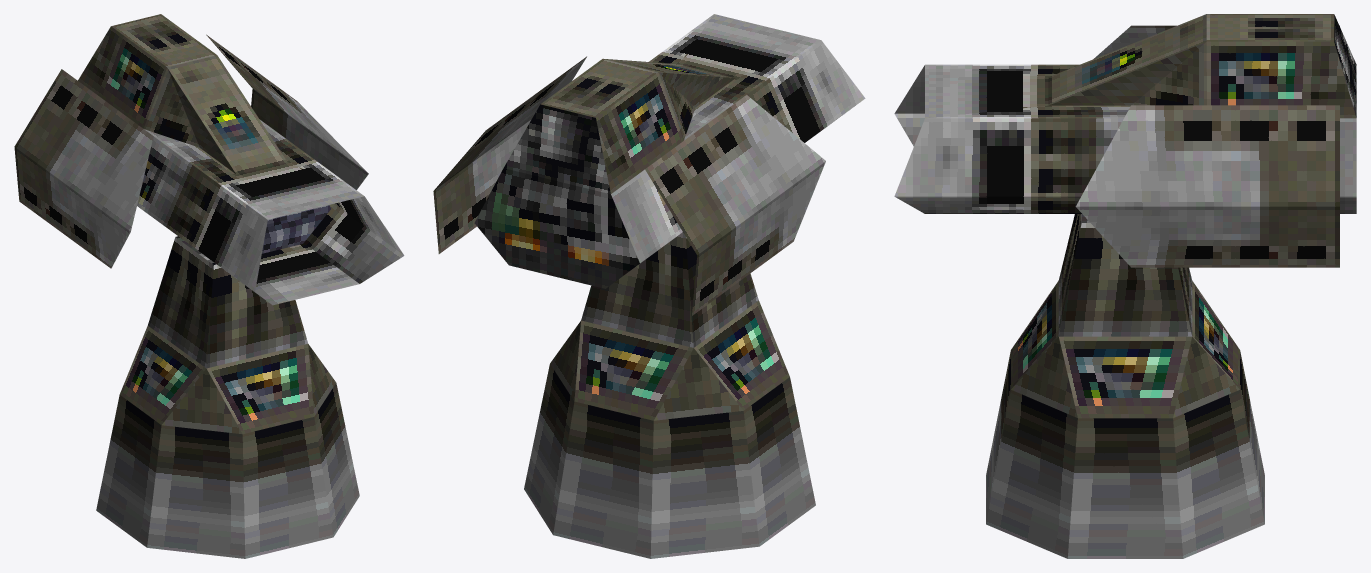
The model's file is turret-standard.glb.
3 renders of one model, left to right at view 1: azimuth 30°, elevation 25°; view 2: azimuth 150°, elevation 25°; view 3: azimuth 270°, elevation 25°, orthographic. The views are drawn at different scales.
Visible parts, largest first — view 1: turret-standard-hipoly_gun, turret-standard-hipoly_hull; view 2: turret-standard-hipoly_gun, turret-standard-hipoly_hull; view 3: turret-standard-hipoly_gun, turret-standard-hipoly_hull.
Boxes of the visible parts, bbox=[...] form: turret-standard-hipoly_gun: bbox=[14, 14, 404, 305]; turret-standard-hipoly_hull: bbox=[96, 236, 359, 558]; turret-standard-hipoly_gun: bbox=[433, 14, 865, 315]; turret-standard-hipoly_hull: bbox=[524, 232, 815, 558]; turret-standard-hipoly_gun: bbox=[894, 14, 1356, 267]; turret-standard-hipoly_hull: bbox=[986, 214, 1264, 558].
Bounding box in the file's own units: 0.9551 × 1.59 × 1.41.
Materials: 2 (2 with a texture image).
